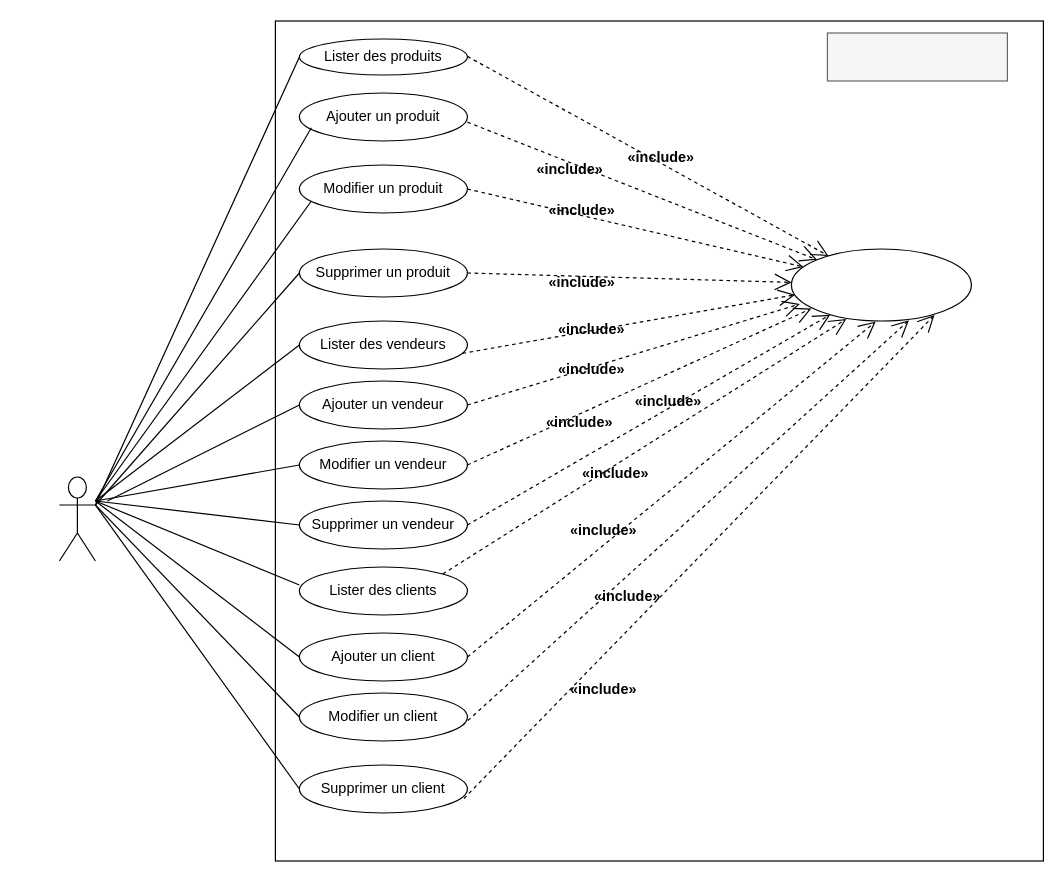
This 1064x882 diagram has some shape labels left out. Each missing label, with the centre of its shape:
"Administratreur" goes at point 76,518.
"Espace Adminidtration" goes at point 916,56.
"S'authentifier" goes at point 880,284.
